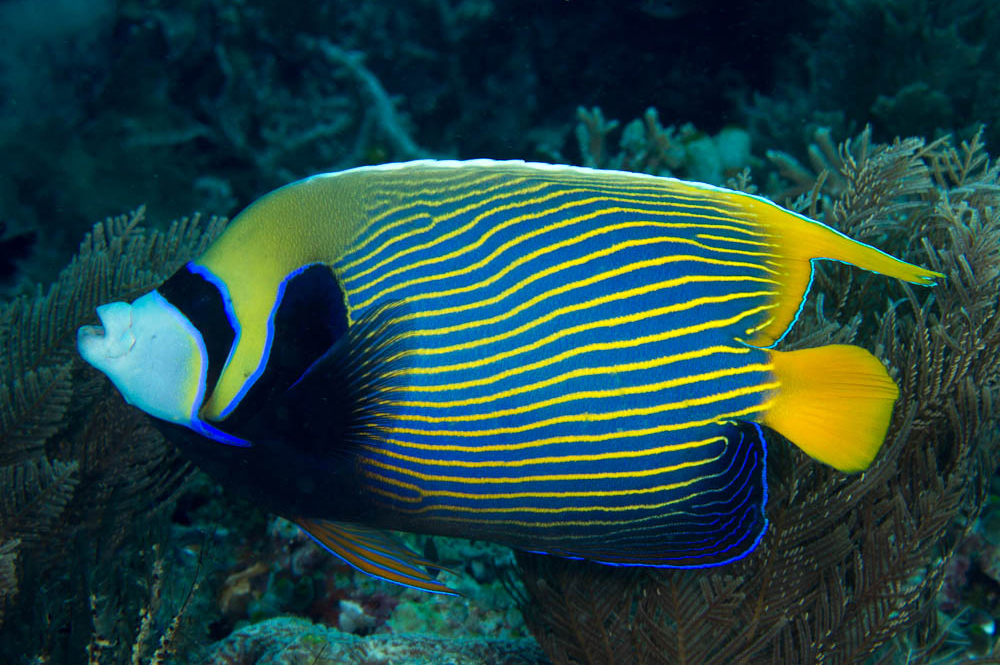Pomacanthus_imperator: (81, 104, 970, 611)
